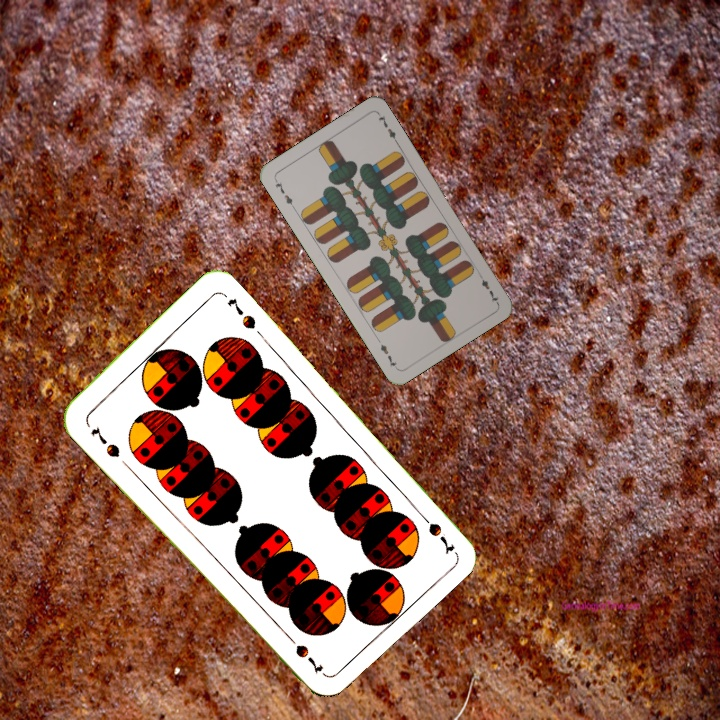E7: (474, 269, 501, 305), (271, 175, 297, 212)
S7: (412, 506, 458, 555), (86, 422, 123, 460)
